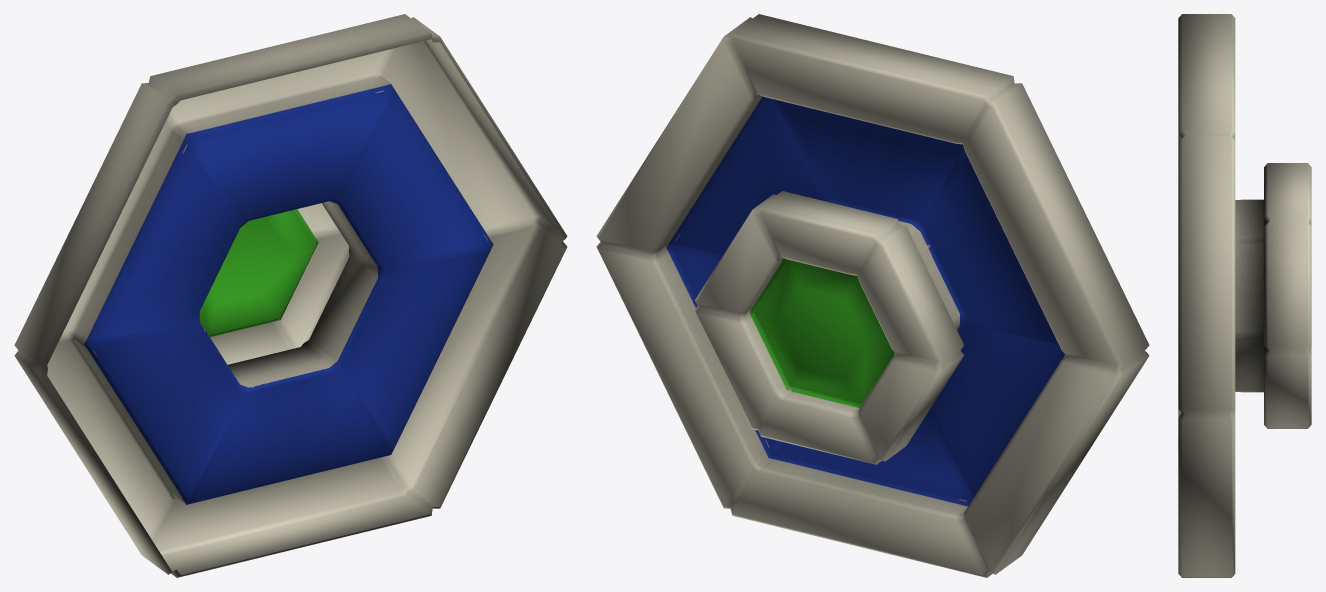
File: fountain.fbx
3 renders of one model, left to right at view 1: azimuth 30°, elevation 25°; view 2: azimuth 150°, elevation 25°; view 3: azimuth 270°, elevation 25°, orthographic. The views are drawn at different scales.
Visible parts, largest first — view 1: fountain; view 2: fountain; view 3: fountain.
Part boxes in pixels (<box>): fountain: <box>14,14,567,577</box>; fountain: <box>596,14,1149,577</box>; fountain: <box>1178,14,1311,577</box>.
Size of the model in its own units: 59360 by 51962 by 14000.
